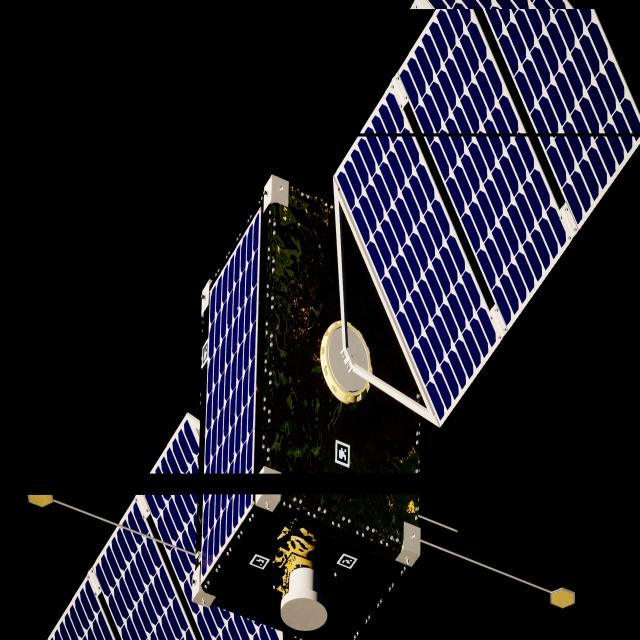satellite: (45, 0, 640, 640)
